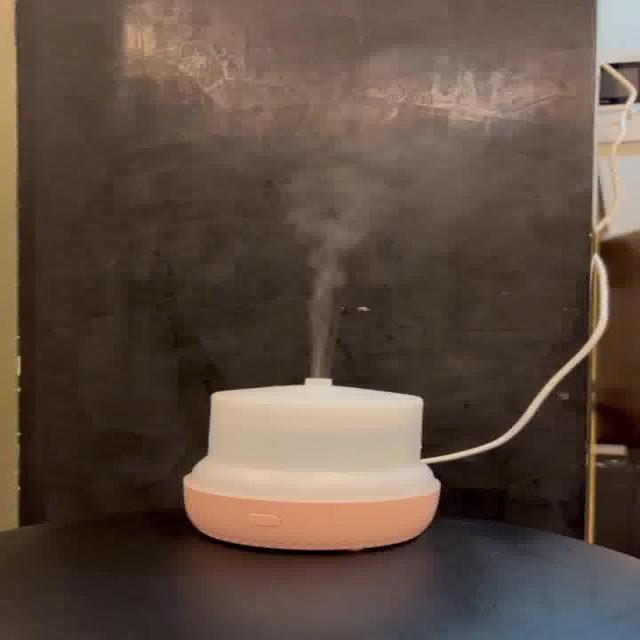fire: (296, 111, 444, 375)
